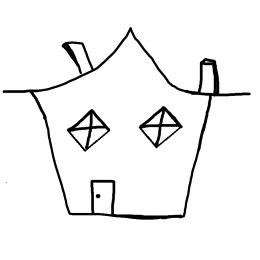chimney: (191, 42, 226, 100), (57, 28, 96, 77)
closed_window: (60, 104, 118, 165), (131, 100, 188, 162)
door: (84, 172, 121, 218)
single_line_roof: (7, 22, 260, 102)
wall: (31, 90, 214, 230)
